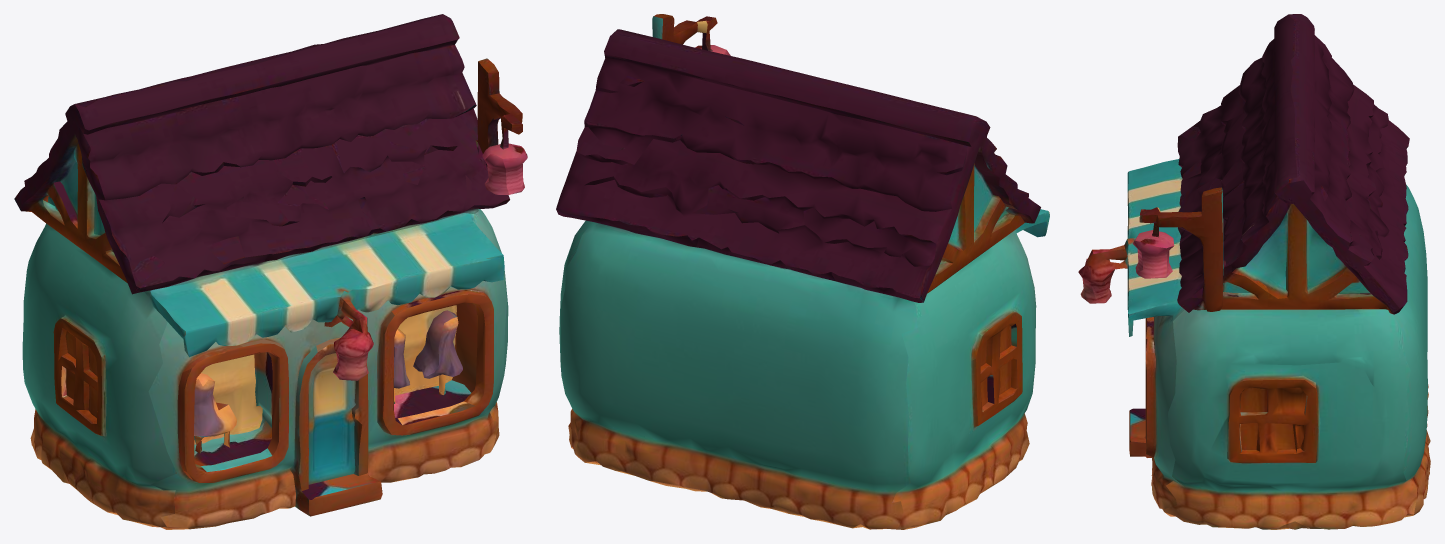
File: tailor.glb
3 renders of one model, left to right at view 1: azimuth 30°, elevation 25°; view 2: azimuth 150°, elevation 25°; view 3: azimuth 270°, elevation 25°, orthographic. The views are drawn at different scales.
Visible parts, largest first — view 1: tailor; view 2: tailor; view 3: tailor.
Boxes of the visible parts, box(x1,y1,x2,y2) form: tailor: box(14, 14, 527, 529); tailor: box(556, 14, 1049, 529); tailor: box(1078, 14, 1430, 529).
Bounding box in the file's own units: 1 × 0.9276 × 0.8443.
1 material, 1 textured.
